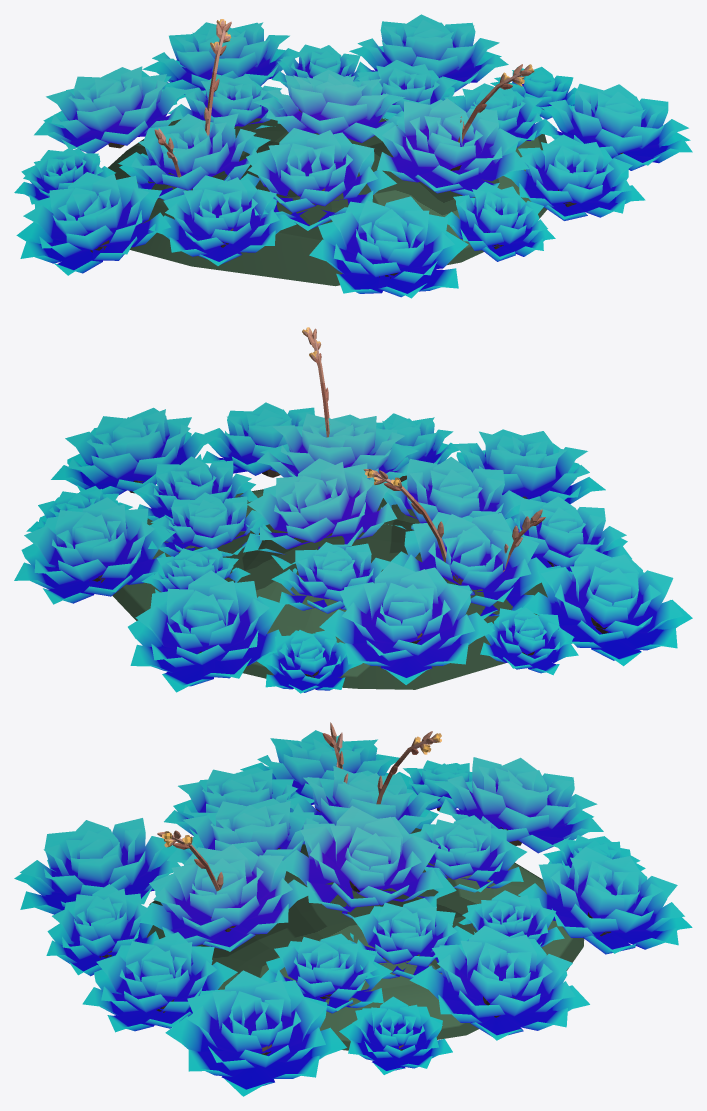
File: SM_Env_Succulent_02.fbx
3 renders of one model, top to bottom at view 1: azimuth 30°, elevation 25°; view 2: azimuth 150°, elevation 25°; view 3: azimuth 270°, elevation 25°, orthographic. The views are drawn at different scales.
Visible parts, largest first — view 1: SM_Env_Succulent_02_LOD0; view 2: SM_Env_Succulent_02_LOD0; view 3: SM_Env_Succulent_02_LOD0.
Part boxes in pixels (x1,y1,x2,y2): SM_Env_Succulent_02_LOD0: (14, 14, 692, 298); SM_Env_Succulent_02_LOD0: (14, 327, 692, 693); SM_Env_Succulent_02_LOD0: (14, 722, 692, 1096).
Size of what is drawn, in the model's own units: 268 by 67.68 by 231.
